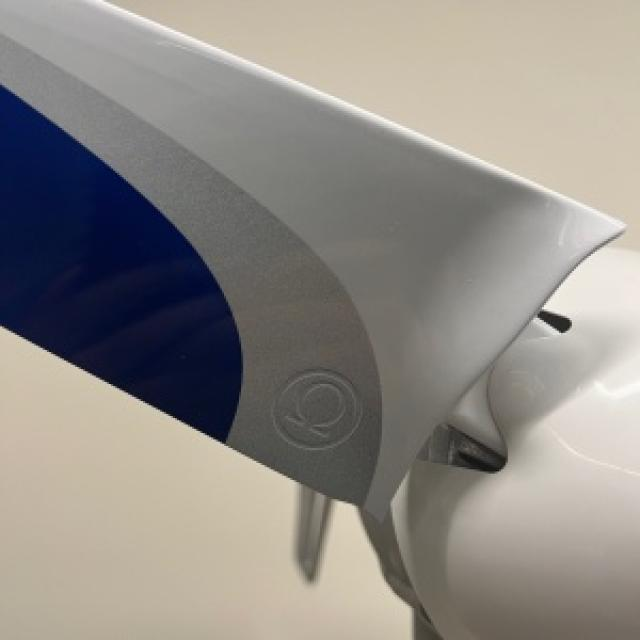healthy: (0, 331, 403, 638)
